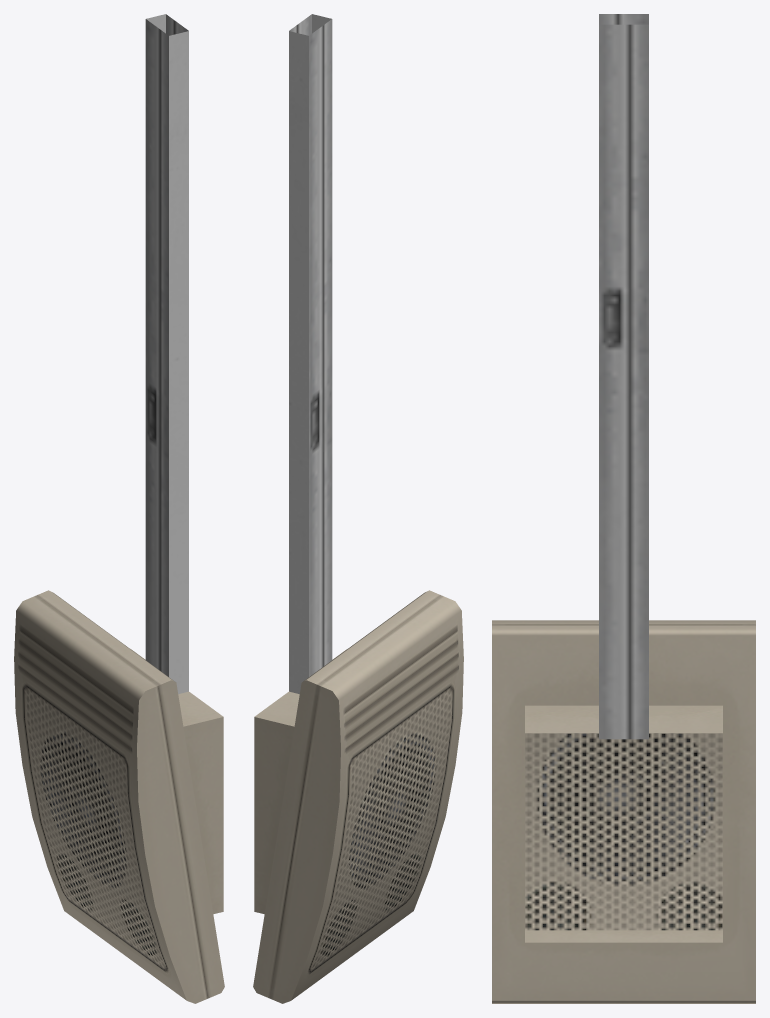
File: HH_PA_Speaker.fbx
3 views of the same model, side by side, from view 1: azimuth 30°, elevation 25°; view 2: azimuth 150°, elevation 25°; view 3: azimuth 270°, elevation 25° (orthographic). The views are drawn at different scales.
Parts seen in each view (by area): view 1: HH_PA_Speaker; view 2: HH_PA_Speaker; view 3: HH_PA_Speaker.
Boxes of the visible parts, x1,y1,x2,y2 form: HH_PA_Speaker: (14,14,224,1003); HH_PA_Speaker: (253,14,463,1003); HH_PA_Speaker: (492,14,755,1003).
Bounding box in the file's own units: 11.31 × 98.11 × 23.59.
